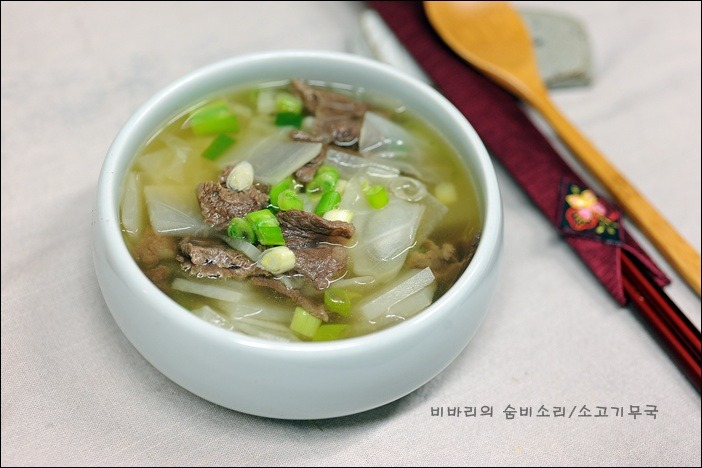mugug: (118, 77, 486, 346)
